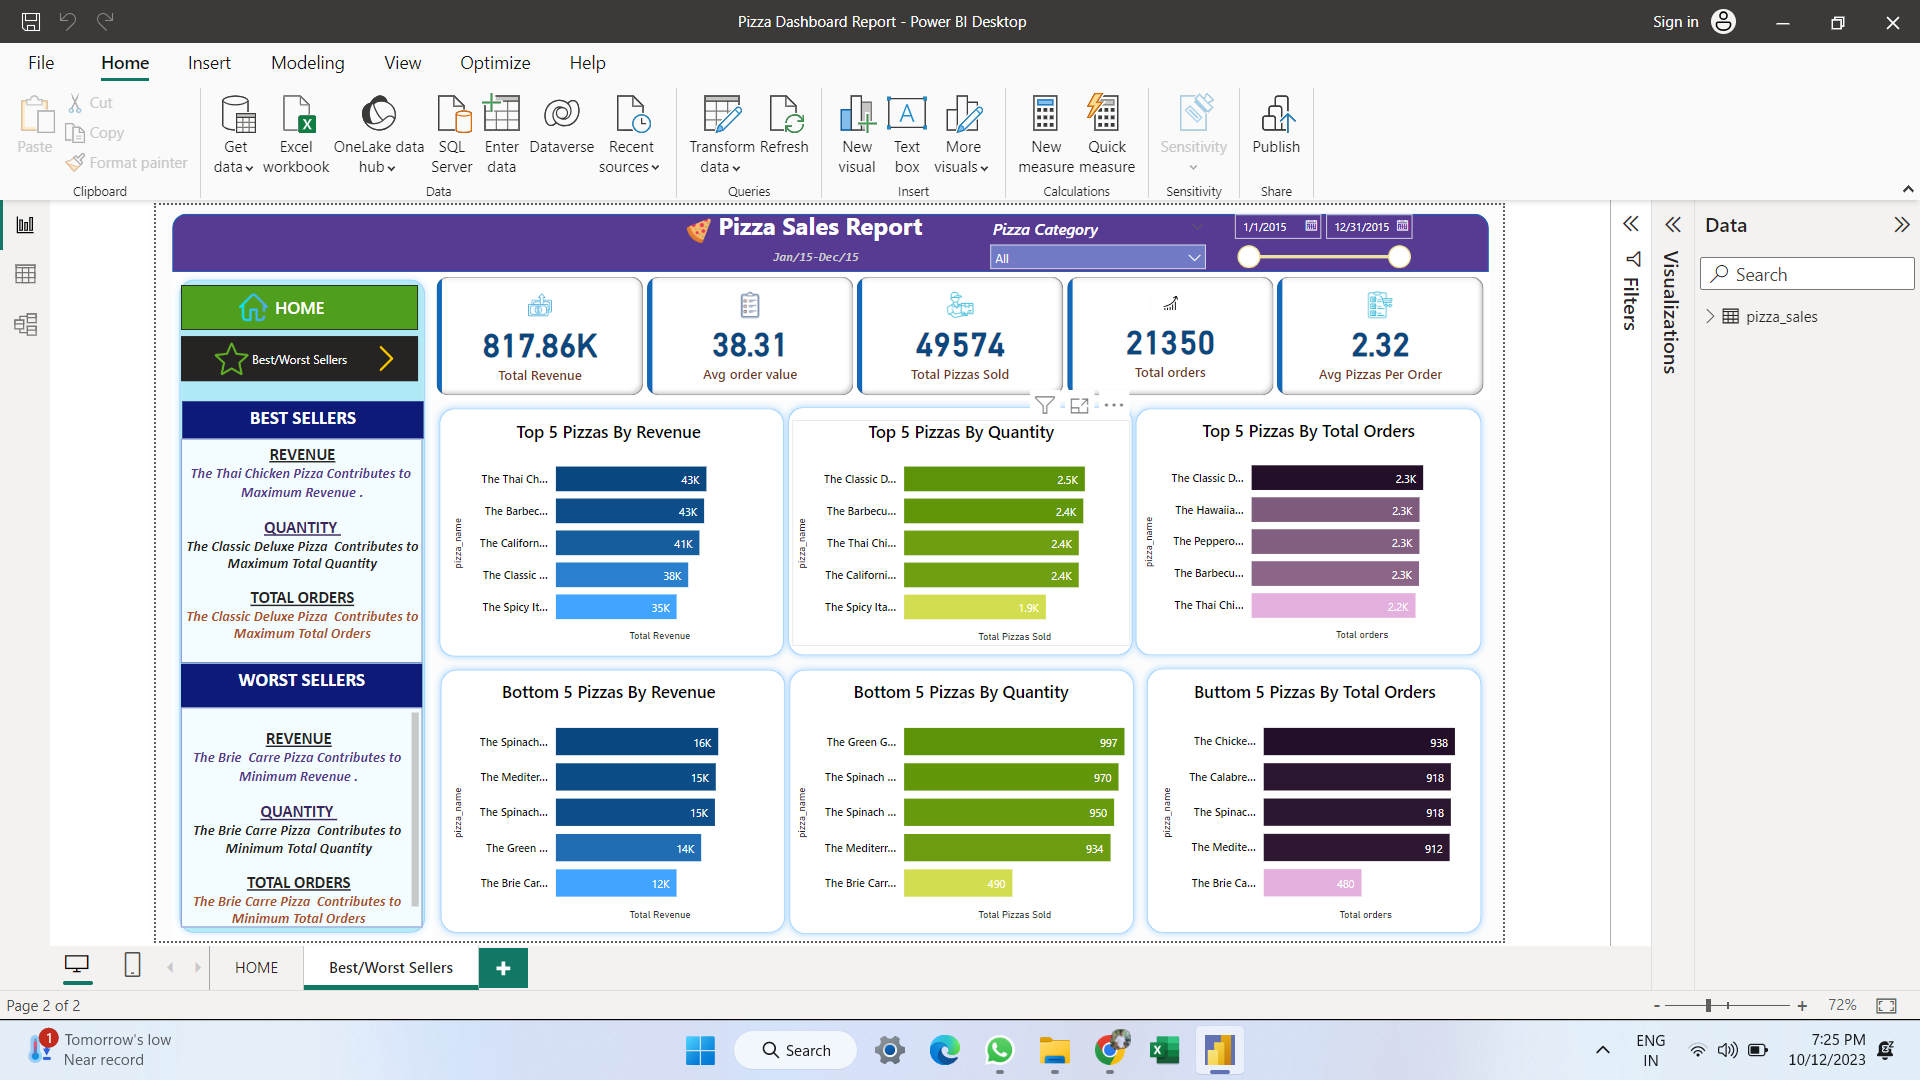

The dashboard page shown, as its layout file describes it:
{"tool":"powerbi","page":{"name":"Best/Worst Sellers","canvas":[1500,820],"ordinal":1},"visuals":[{"type":"shape","box":[18.1,75.2,289.6,743.4],"z":0},{"type":"cardVisual","fields":{"Data":["pizza_sales.Total Revenue","pizza_sales.Avg order value","pizza_sales.Total Pizzas Sold","pizza_sales.Total orders","pizza_sales.Avg Pizzas Per Order"]},"box":[307.5,75,1177.5,142.5],"z":1000},{"type":"shape","box":[18.8,10,1466.2,65],"z":2000},{"type":"textbox","box":[573.8,0,332.5,67.5],"z":3000},{"type":"textbox","box":[682.5,42.5,113.8,30],"z":4000},{"type":"image","box":[583.8,10,42.5,37.5],"z":5000},{"type":"shape","box":[307.7,218.6,399.6,292.4],"z":6000},{"type":"textbox","box":[29.2,218.6,268.7,41.8],"z":7000},{"type":"textbox","box":[27.8,260.3,268.7,249.2],"z":8000},{"type":"textbox","box":[27.8,510.9,268.7,48.7],"z":9000},{"type":"textbox","box":[27.8,559.7,268.7,245],"z":10000},{"type":"slicer","fields":{"Values":["pizza_sales.pizza_category"]},"box":[918.8,9.7,260.3,64],"z":11000},{"type":"slicer","fields":{"Values":["pizza_sales.order_date"]},"box":[1188.9,0,217.2,89.1],"z":12000},{"type":"shape","box":[696.1,217.2,399.6,292.4],"z":13000},{"type":"shape","box":[1083.1,218.6,401,291],"z":14000},{"type":"shape","box":[309.1,509.5,399.6,309.1],"z":15000},{"type":"shape","box":[697.5,509.5,399.6,310.5],"z":16000},{"type":"shape","box":[1095.7,508.1,388.4,310.5],"z":17000},{"type":"barChart","title":"Top 5 Pizzas By Revenue","fields":{"Category":["pizza_sales.pizza_name"],"Y":["pizza_sales.Total Revenue"]},"box":[325.8,239.5,356.4,252],"z":18000},{"type":"barChart","title":"Bottom 5 Pizzas By Revenue","fields":{"Category":["pizza_sales.pizza_name"],"Y":["pizza_sales.Total Revenue"]},"box":[326.2,528.6,356.7,273.1],"z":19000},{"type":"barChart","title":"Top 5 Pizzas By Quantity","fields":{"Category":["pizza_sales.pizza_name"],"Y":["pizza_sales.Total Pizzas Sold"]},"box":[708.6,239.4,376,252.3],"z":20000},{"type":"barChart","title":"Bottom 5 Pizzas By Quantity","fields":{"Category":["pizza_sales.pizza_name"],"Y":["pizza_sales.Total Pizzas Sold"]},"box":[708.6,528.6,376,273.1],"z":21000},{"type":"barChart","title":"Top 5 Pizzas By Total Orders","fields":{"Category":["pizza_sales.pizza_name"],"Y":["pizza_sales.Total orders"]},"box":[1095.7,238.1,375.9,252],"z":22000},{"type":"barChart","title":"Buttom 5 Pizzas By Total Orders","fields":{"Category":["pizza_sales.pizza_name"],"Y":["pizza_sales.Total orders"]},"box":[1115.1,529,350.8,272.9],"z":23000},{"type":"pageNavigator","box":[27.8,146.2,264.5,50.1],"z":24000},{"type":"pageNavigator","box":[27.8,89.1,264.5,50.1],"z":25000},{"type":"image","box":[236.7,151.7,40.4,39],"z":26000},{"type":"image","box":[87.7,89.1,41.8,50.1],"z":27000},{"type":"image","box":[59.9,147.6,48.7,47.3],"z":28000}]}

Visuals, with their boxes on the page's 1500x820 design canvas (x1, y1, x2, y2). These are canvas units, not pixel positions in the 1920x1080 screenshot, which may show the page scaled, cropped or inside an application window:
shape: [left=18, top=75, right=308, bottom=819]
cardVisual - pizza_sales.Total Revenue x pizza_sales.Avg order value: [left=308, top=75, right=1485, bottom=218]
shape: [left=19, top=10, right=1485, bottom=75]
textbox: [left=574, top=0, right=906, bottom=68]
textbox: [left=682, top=42, right=796, bottom=72]
image: [left=584, top=10, right=626, bottom=48]
shape: [left=308, top=219, right=707, bottom=511]
textbox: [left=29, top=219, right=298, bottom=260]
textbox: [left=28, top=260, right=296, bottom=510]
textbox: [left=28, top=511, right=296, bottom=560]
textbox: [left=28, top=560, right=296, bottom=805]
slicer - pizza_sales.pizza_category: [left=919, top=10, right=1179, bottom=74]
slicer - pizza_sales.order_date: [left=1189, top=0, right=1406, bottom=89]
shape: [left=696, top=217, right=1096, bottom=510]
shape: [left=1083, top=219, right=1484, bottom=510]
shape: [left=309, top=510, right=709, bottom=819]
shape: [left=698, top=510, right=1097, bottom=820]
shape: [left=1096, top=508, right=1484, bottom=819]
"Top 5 Pizzas By Revenue" barChart: [left=326, top=240, right=682, bottom=492]
"Bottom 5 Pizzas By Revenue" barChart: [left=326, top=529, right=683, bottom=802]
"Top 5 Pizzas By Quantity" barChart: [left=709, top=239, right=1085, bottom=492]
"Bottom 5 Pizzas By Quantity" barChart: [left=709, top=529, right=1085, bottom=802]
"Top 5 Pizzas By Total Orders" barChart: [left=1096, top=238, right=1472, bottom=490]
"Buttom 5 Pizzas By Total Orders" barChart: [left=1115, top=529, right=1466, bottom=802]
pageNavigator: [left=28, top=146, right=292, bottom=196]
pageNavigator: [left=28, top=89, right=292, bottom=139]
image: [left=237, top=152, right=277, bottom=191]
image: [left=88, top=89, right=130, bottom=139]
image: [left=60, top=148, right=109, bottom=195]
